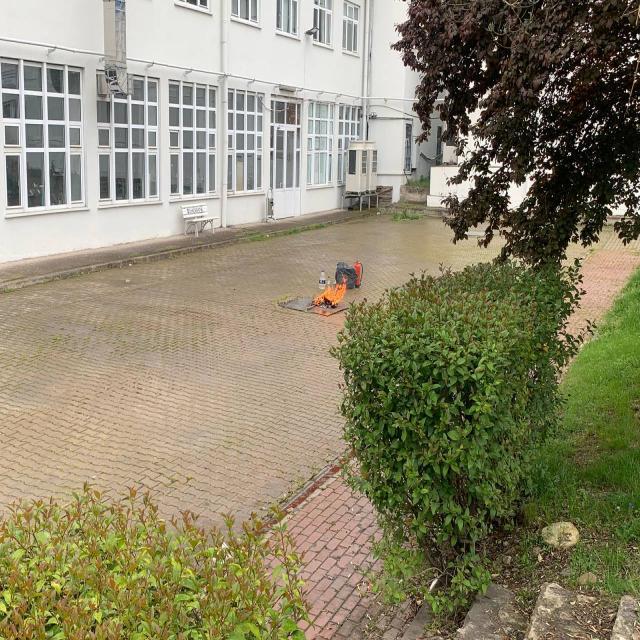fire: (309, 278, 350, 312)
